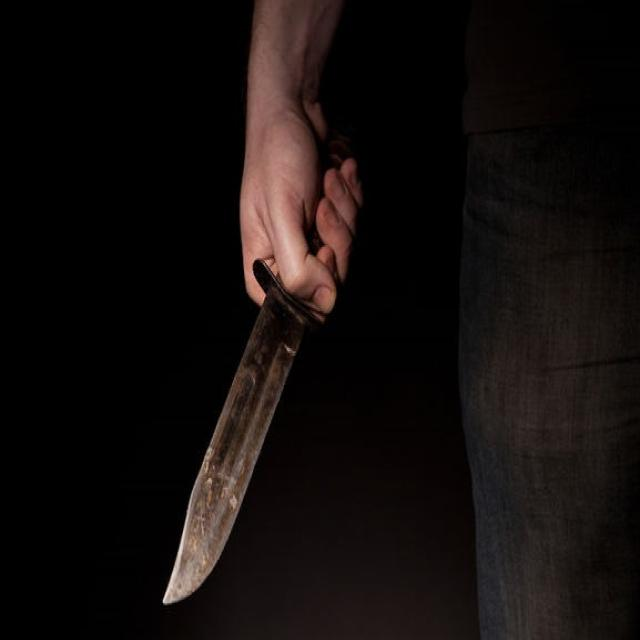knife: (153, 269, 302, 614)
